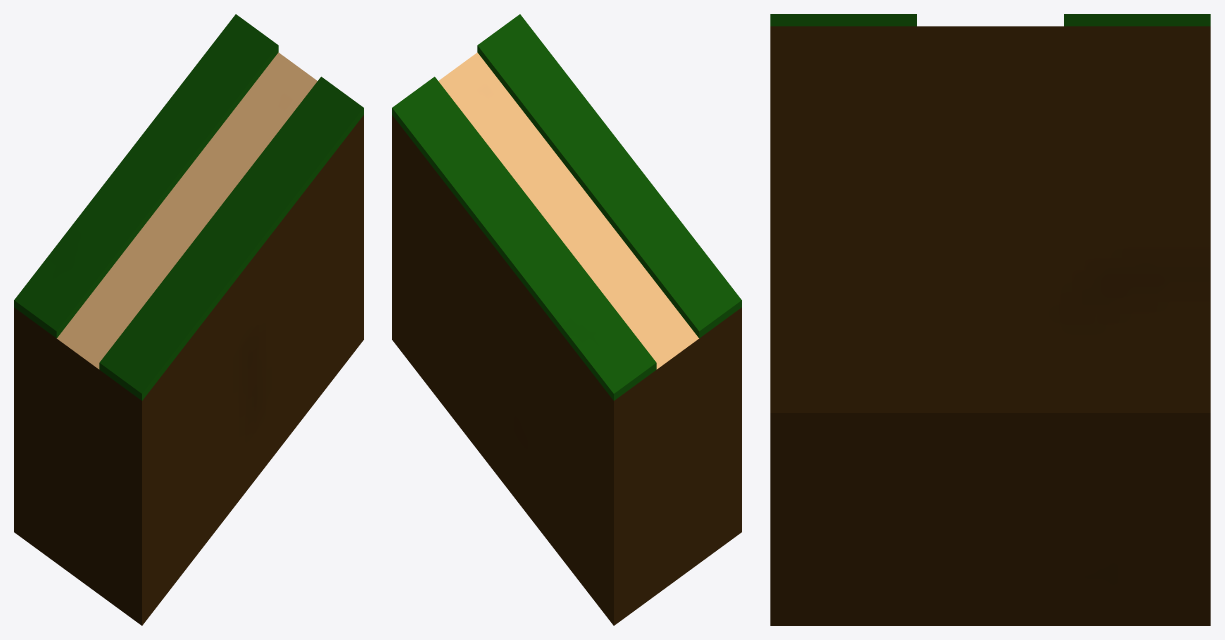
Rendered from uphill.fbx.
The picture shows the model from 3 angles, left to right: view 1: azimuth 30°, elevation 25°; view 2: azimuth 150°, elevation 25°; view 3: azimuth 270°, elevation 25°; orthographic projection. The views are drawn at different scales.
Parts seen in each view (by area): view 1: Cube.008; view 2: Cube.008; view 3: Cube.008.
Boxes of the visible parts, bbox=[...] form: Cube.008: bbox=[14, 14, 363, 625]; Cube.008: bbox=[392, 14, 741, 625]; Cube.008: bbox=[770, 14, 1210, 625].
Bounding box in the file's own units: 3000 × 6000 × 3000.
